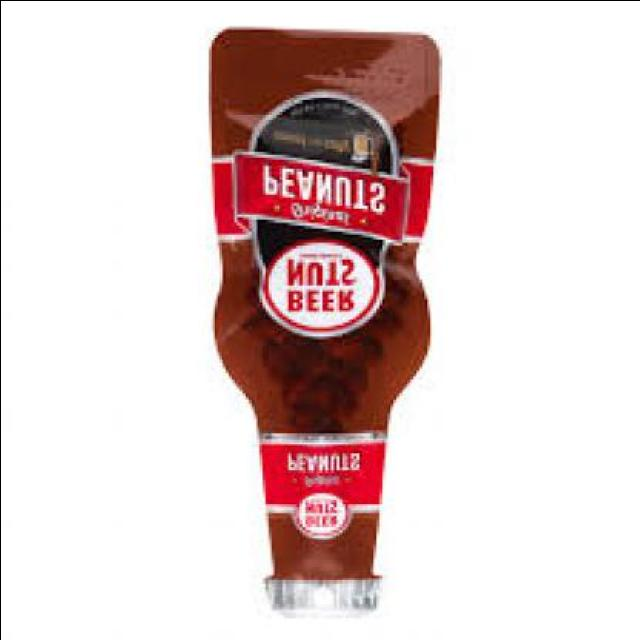kaca: (204, 31, 442, 580)
